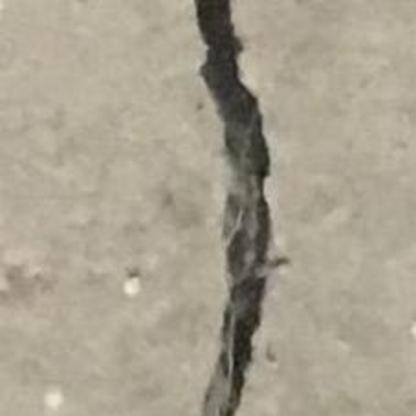SurfaceCrack: (186, 2, 286, 416)
